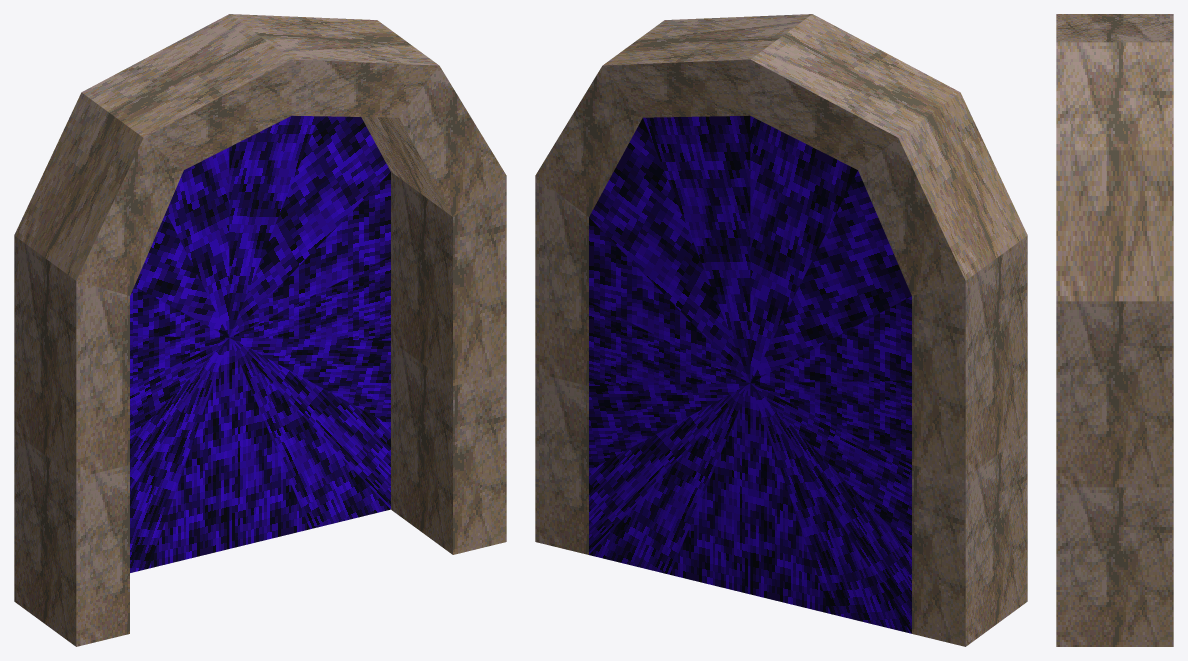
Rendered from highelfportal.obj.
3 renders of one model, left to right at view 1: azimuth 30°, elevation 25°; view 2: azimuth 150°, elevation 25°; view 3: azimuth 270°, elevation 25°, orthographic. The views are drawn at different scales.
Visible parts, largest first — view 1: object0; view 2: object0; view 3: object0.
Part boxes in pixels (x1,y1,x2,y2): object0: (14,14,506,646); object0: (535,14,1027,646); object0: (1056,14,1173,646).
Size of the model in its own units: 4.1 by 4.86 by 1.02.
2 materials, 2 textured.
